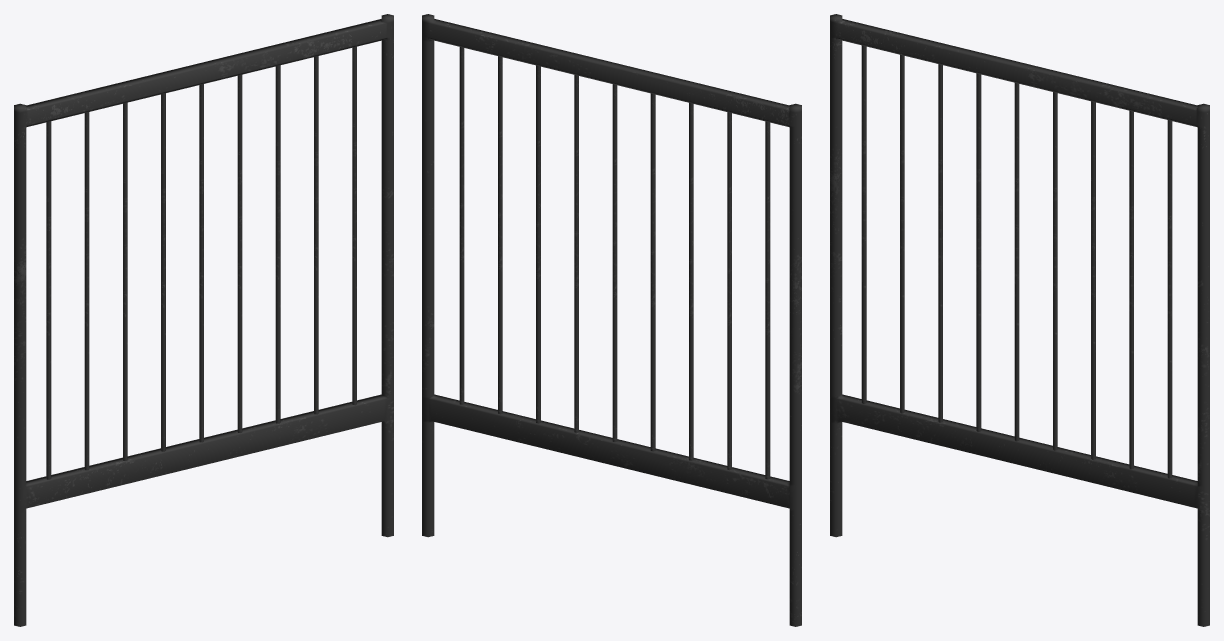
Rendered from Fence_Steal.fbx.
The picture shows the model from 3 angles, left to right: view 1: azimuth 30°, elevation 25°; view 2: azimuth 150°, elevation 25°; view 3: azimuth 330°, elevation 25°; orthographic projection.
Parts seen in each view (by area): view 1: saku_steel; view 2: saku_steel; view 3: saku_steel.
Part boxes in pixels (left/top/right/bottom): saku_steel: left=14, top=14, right=393, bottom=626; saku_steel: left=422, top=14, right=801, bottom=626; saku_steel: left=830, top=14, right=1209, bottom=626.
Size of the model in its own units: 0.0587 by 0.0764 by 0.00164.
Materials: 1 (1 with a texture image).
